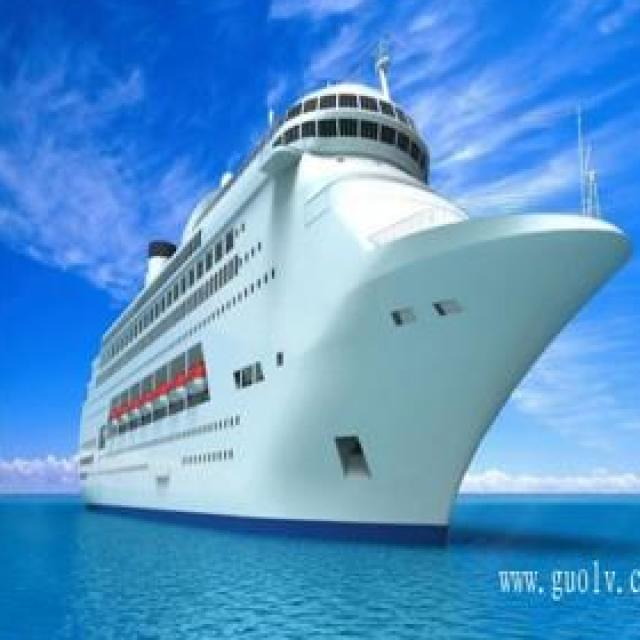passenger ship: (74, 80, 625, 538)
